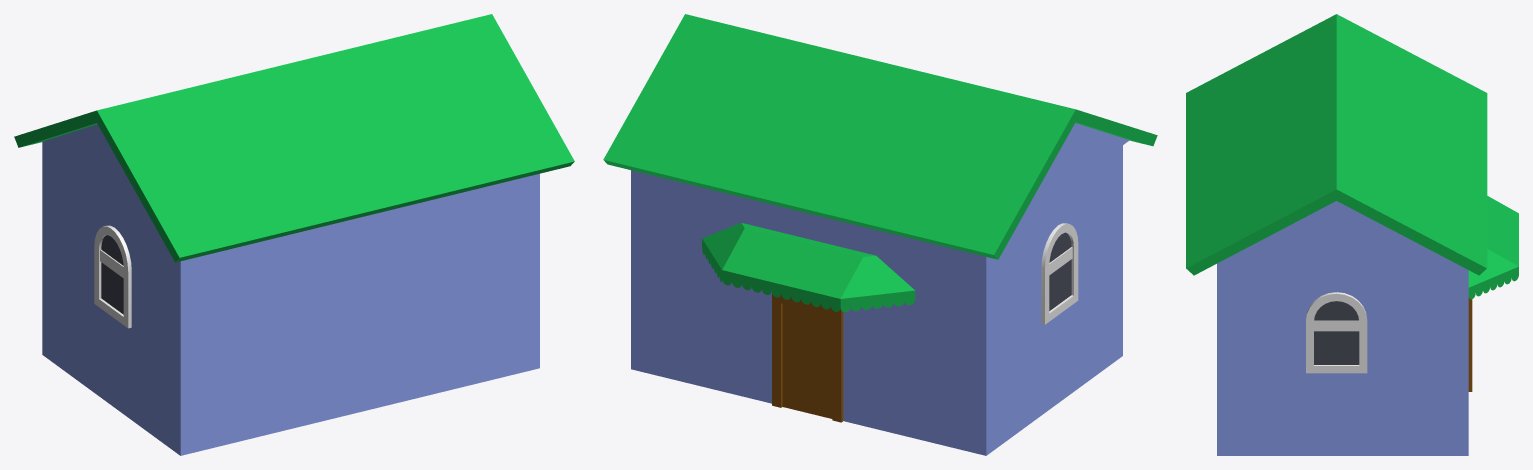
The model's file is house 8.model.fbx.
The picture shows the model from 3 angles, left to right: view 1: azimuth 30°, elevation 25°; view 2: azimuth 150°, elevation 25°; view 3: azimuth 270°, elevation 25°; orthographic projection. The views are drawn at different scales.
Parts seen in each view (by area): view 1: block_46, roof_44, window_rounded_52; view 2: block_46, roof_44, door_low_38, awning_48, window_rounded_52, awning_corner_49, awning_corner_50; view 3: roof_44, block_46, window_rounded_51, awning_48, awning_corner_50, door_low_38.
Boxes of the visible parts, x1=… form: block_46: x1=42, y1=142, x2=539, y2=455; roof_44: x1=14, y1=14, x2=574, y2=262; window_rounded_52: x1=94, y1=225, x2=131, y2=328; block_46: x1=631, y1=145, x2=1122, y2=455; roof_44: x1=603, y1=14, x2=1157, y2=259; door_low_38: x1=772, y1=294, x2=843, y2=422; awning_48: x1=722, y1=224, x2=867, y2=311; window_rounded_52: x1=1041, y1=223, x2=1078, y2=324; awning_corner_49: x1=840, y1=253, x2=915, y2=312; awning_corner_50: x1=702, y1=222, x2=748, y2=282; roof_44: x1=1186, y1=14, x2=1487, y2=275; block_46: x1=1217, y1=262, x2=1468, y2=455; window_rounded_51: x1=1306, y1=292, x2=1367, y2=373; awning_48: x1=1487, y1=196, x2=1518, y2=266; awning_corner_50: x1=1468, y1=249, x2=1518, y2=299; door_low_38: x1=1468, y1=297, x2=1472, y2=391.
Size of the model in its own units: 33 by 24.08 by 26.47.
